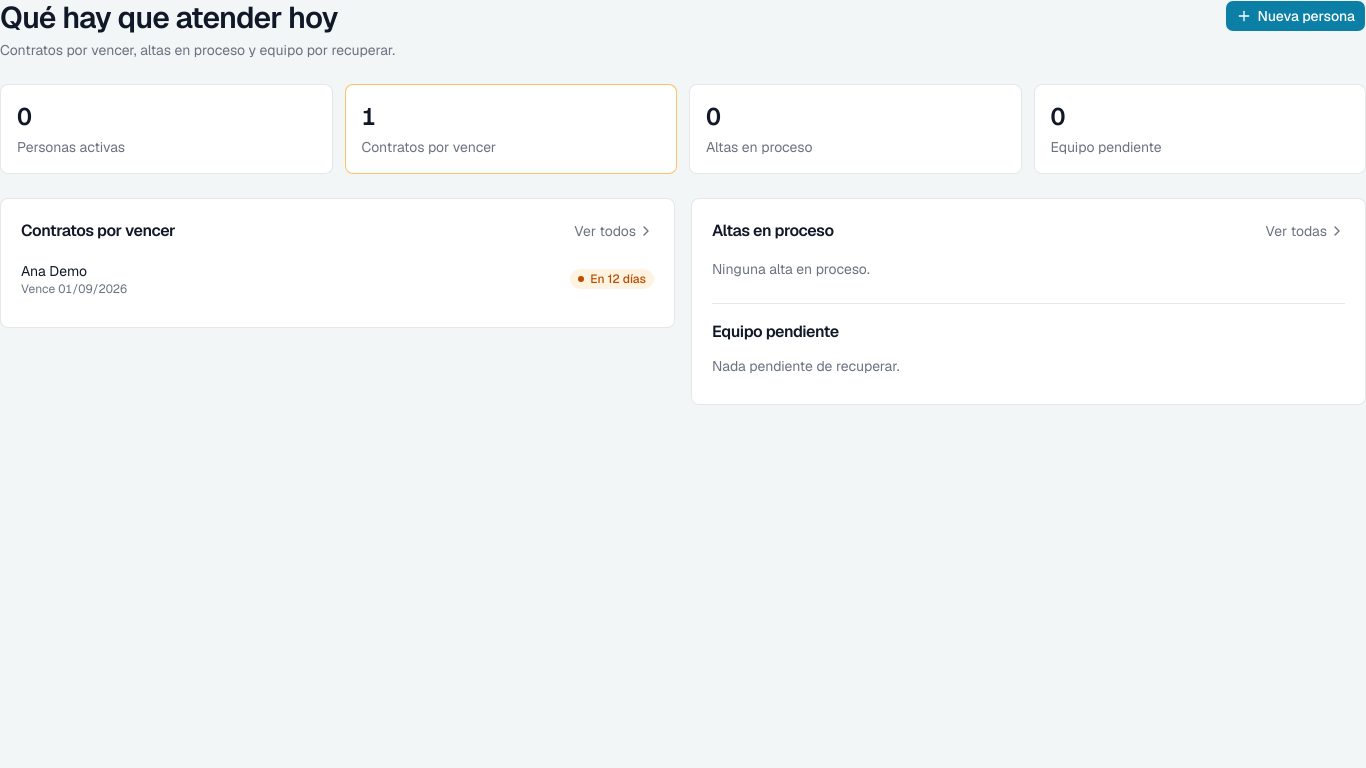
Test: TodayDashboard › opens Decidir renovación from the row when the user can renew
Click the button with aria-label "Decidir renovación de Ana Demo". click: (54, 271)
box: [13,251,662,307]
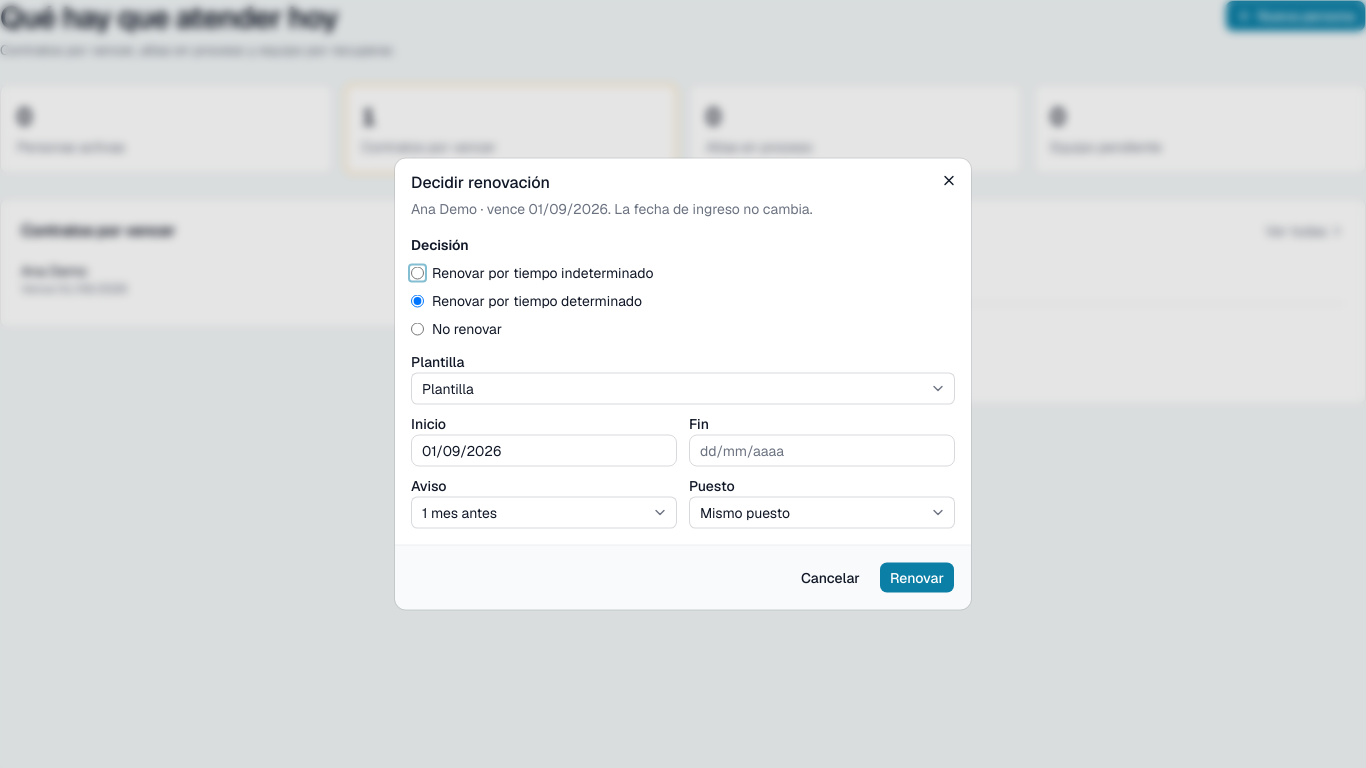
Expected: the dialog is shown, [395,158,971,610]
